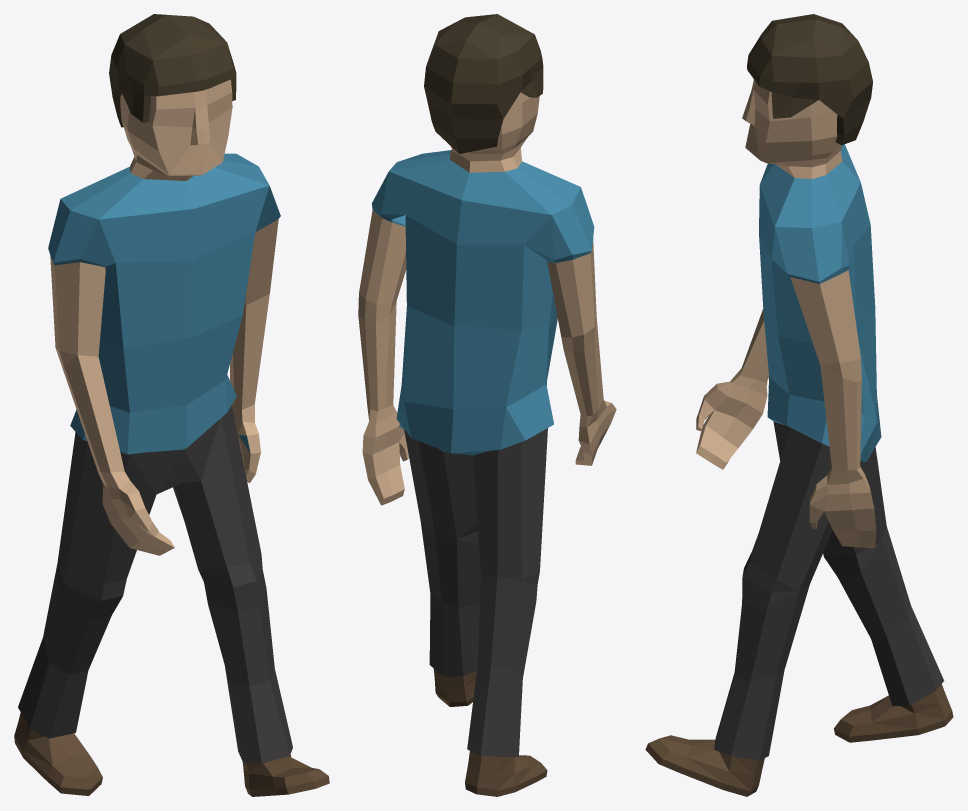
File: 55 People_Male_2.fbx
3 renders of one model, left to right at view 1: azimuth 30°, elevation 25°; view 2: azimuth 150°, elevation 25°; view 3: azimuth 270°, elevation 25°, orthographic. The views are drawn at different scales.
Visible parts, largest first — view 1: Male_Hairstyle29; view 2: Male_Hairstyle29; view 3: Male_Hairstyle29.
Part boxes in pixels (box(x1,y1,x2,y2)): Male_Hairstyle29: box(14, 14, 329, 796); Male_Hairstyle29: box(358, 14, 616, 796); Male_Hairstyle29: box(645, 14, 953, 796).
Bounding box in the file's own units: 11.82 × 37.94 × 14.17.
